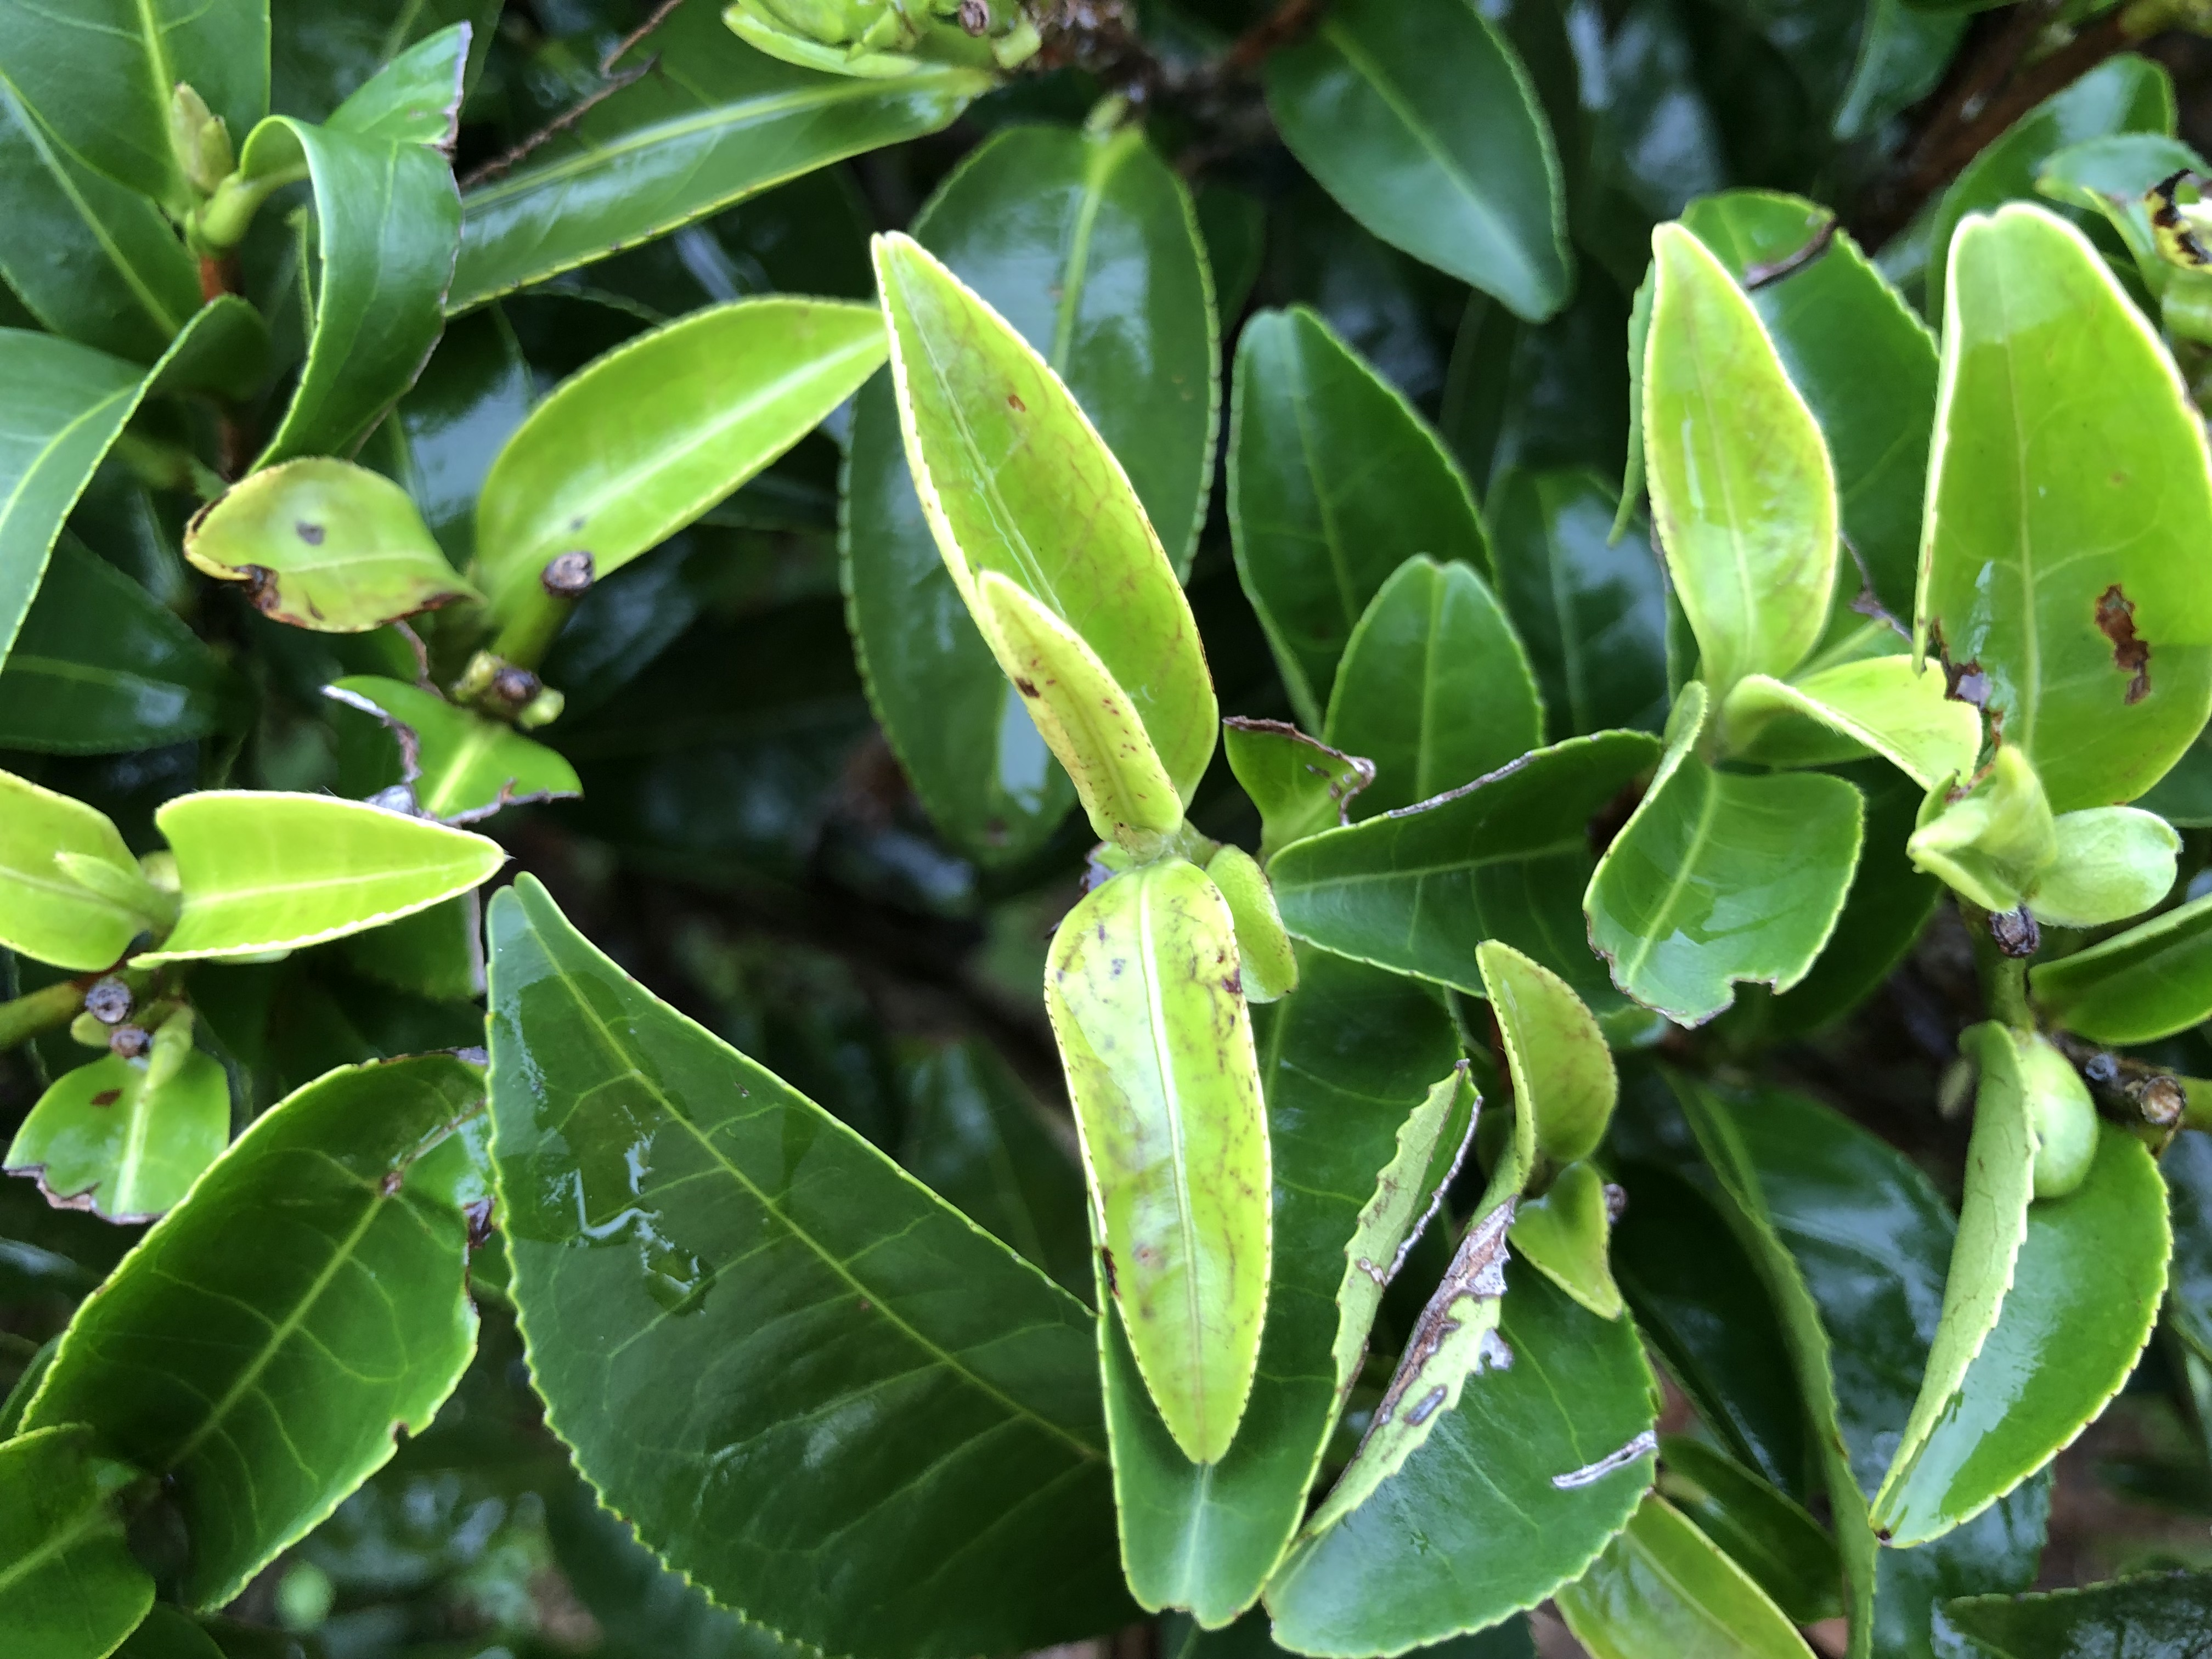formosa: (867, 204, 1216, 859), (1042, 826, 1284, 1490), (925, 498, 1200, 856)
mosquito_late: (1916, 209, 2188, 854), (181, 450, 467, 640)
other: (517, 545, 601, 652), (2092, 1051, 2184, 1127)
